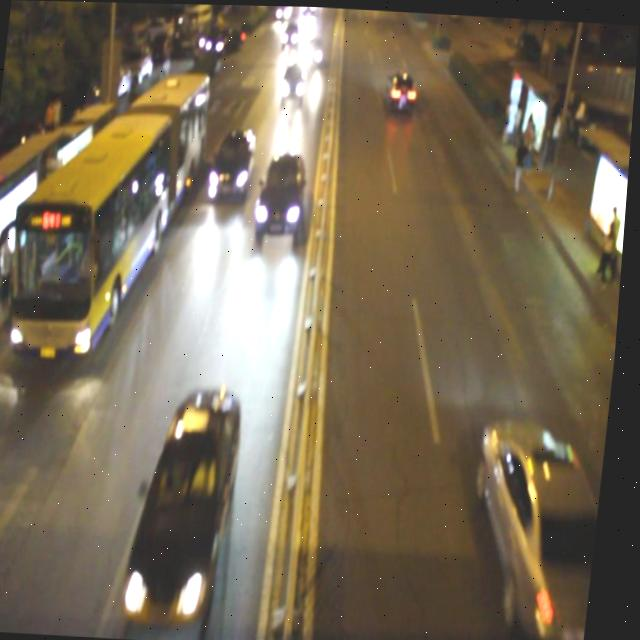car: (469, 413, 613, 633), (131, 380, 252, 613), (257, 147, 311, 236), (208, 125, 259, 204), (383, 65, 419, 114), (278, 59, 308, 100), (302, 31, 325, 65)
van: (1, 59, 205, 361)
